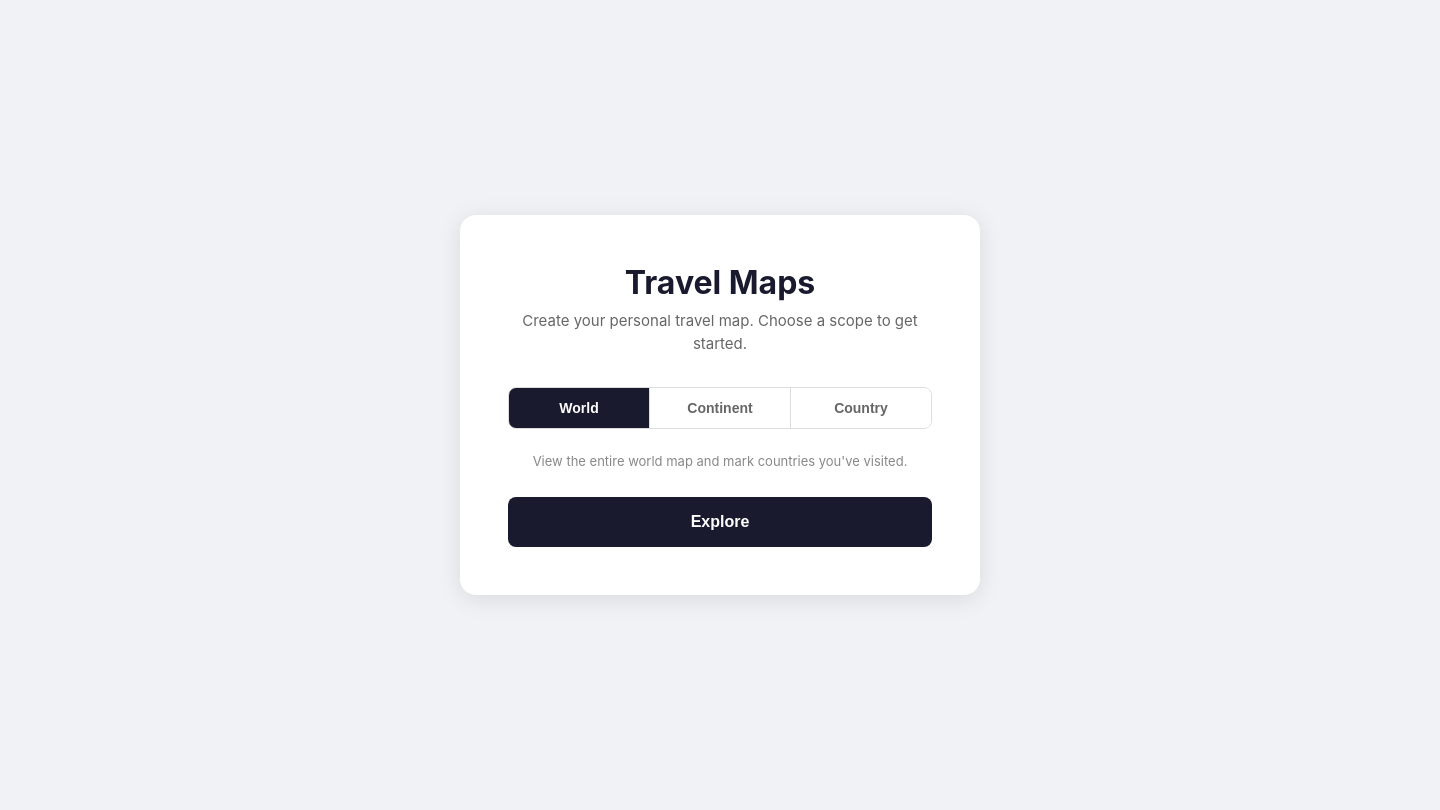
Test case: App Component › navigates back to landing page
Click the button "Explore".
click(720, 522)  # box x1=508 y1=497 x2=932 y2=547
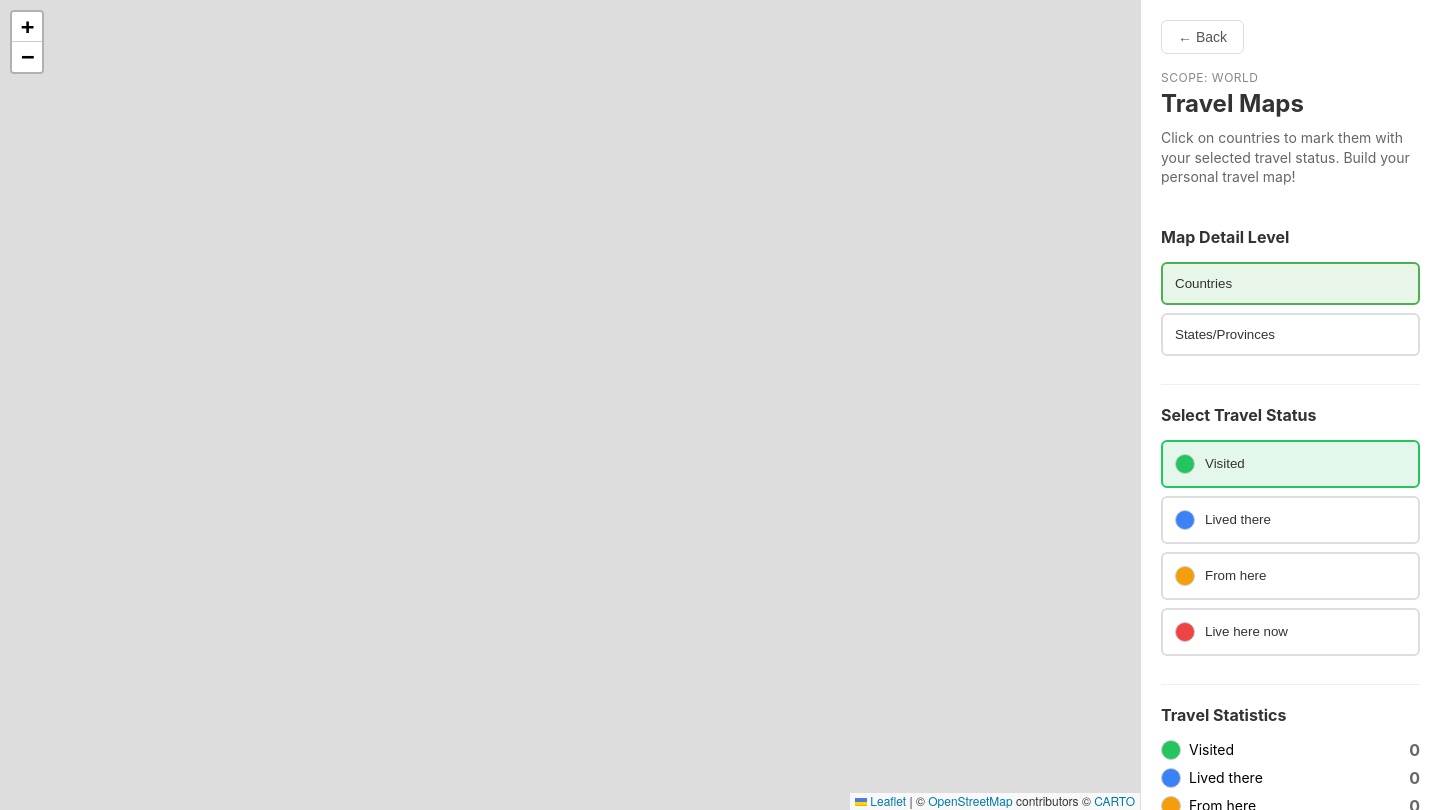
Click the button "← Back".
click(1202, 37)  # box x1=1161 y1=20 x2=1244 y2=54
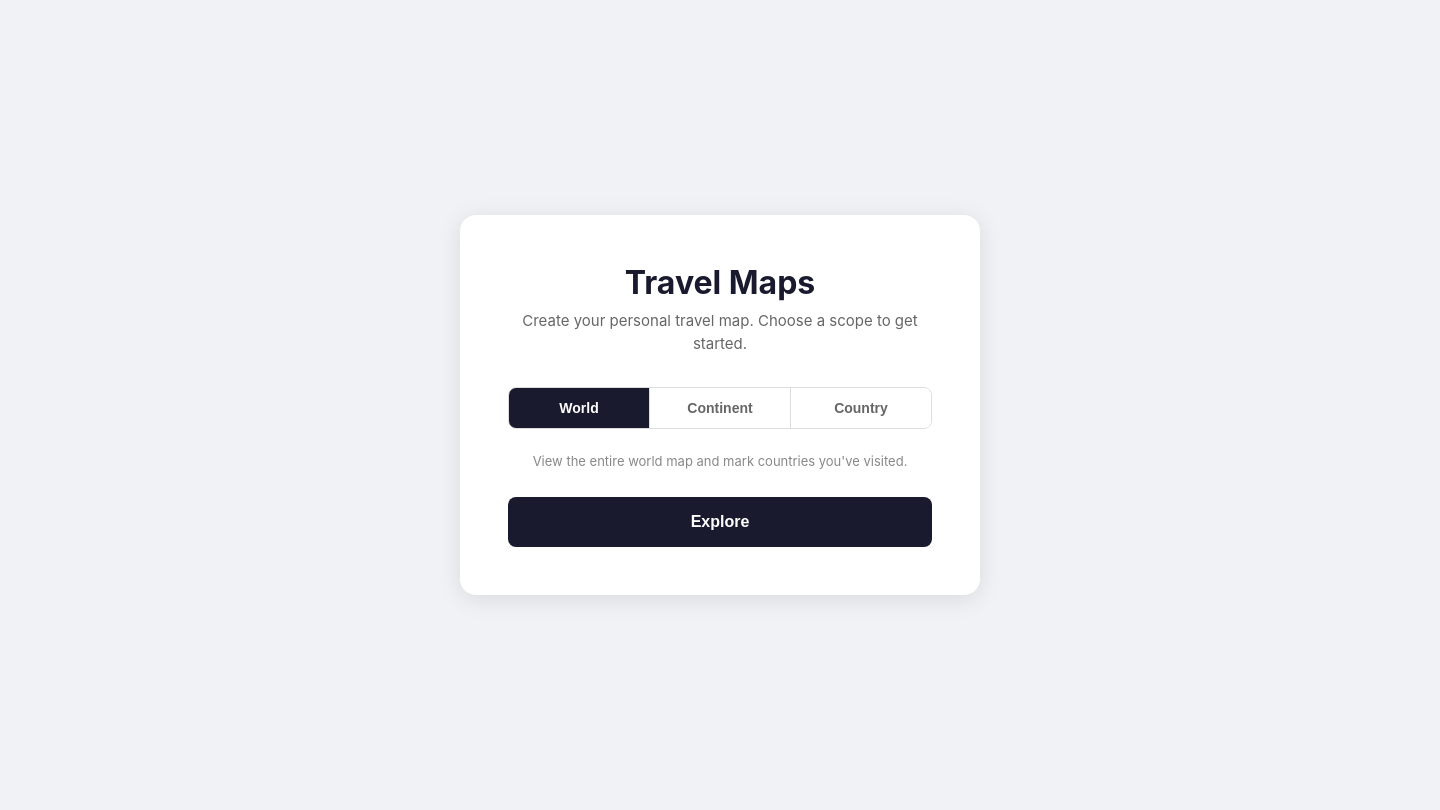
Result: the element with test id "landing-page" is shown
